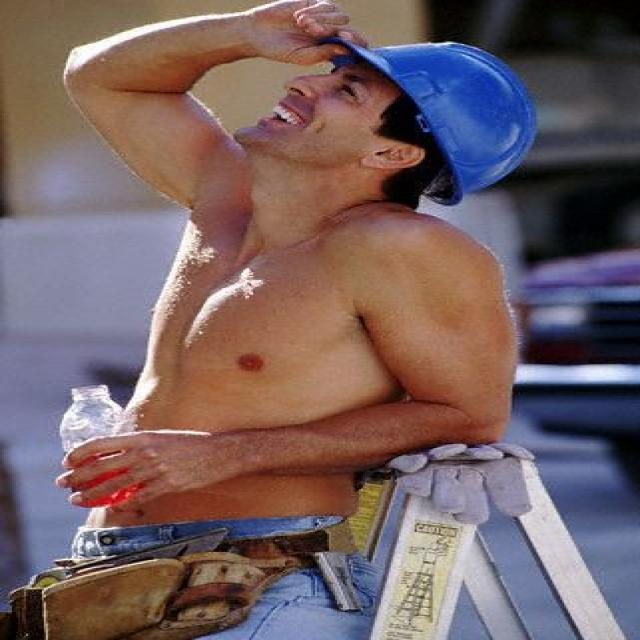Safety-Helmet: (311, 27, 544, 201)
